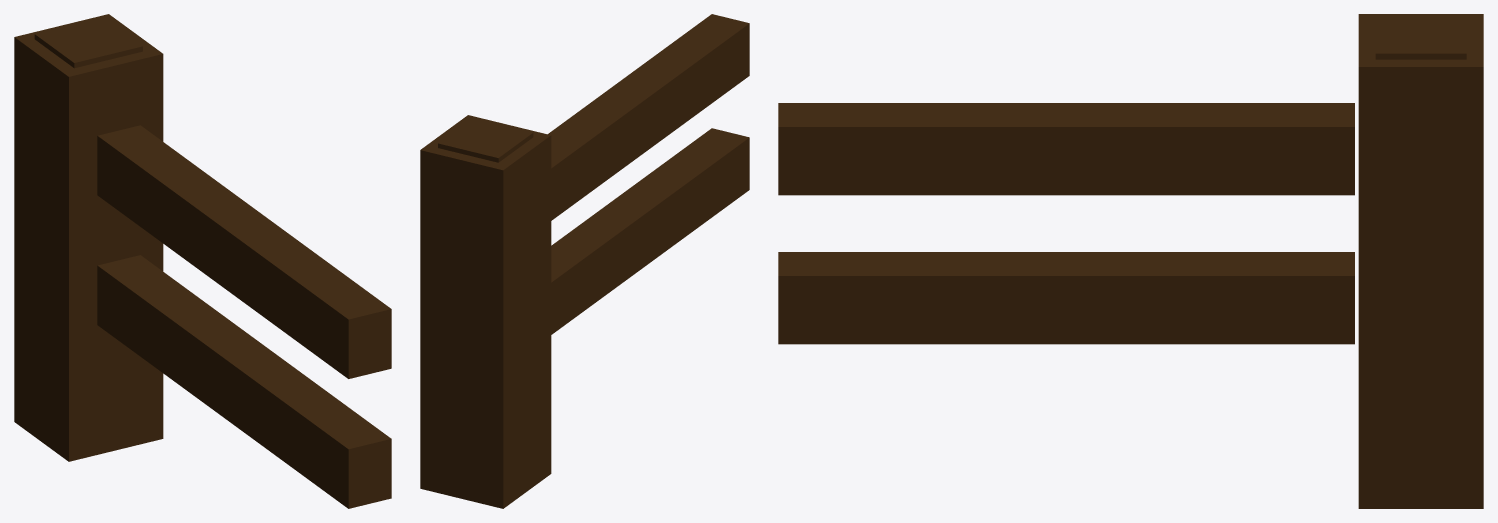
File: Fence_02.fbx
The picture shows the model from 3 angles, left to right: view 1: azimuth 30°, elevation 25°; view 2: azimuth 150°, elevation 25°; view 3: azimuth 270°, elevation 25°; orthographic projection. The views are drawn at different scales.
Parts seen in each view (by area): view 1: Cube.007; view 2: Cube.007; view 3: Cube.007.
Part boxes in pixels (left/top/right/bottom): Cube.007: left=14, top=14, right=391, bottom=508; Cube.007: left=420, top=14, right=749, bottom=508; Cube.007: left=778, top=14, right=1483, bottom=508.
Bounding box in the file's own units: 30 × 118 × 169.
